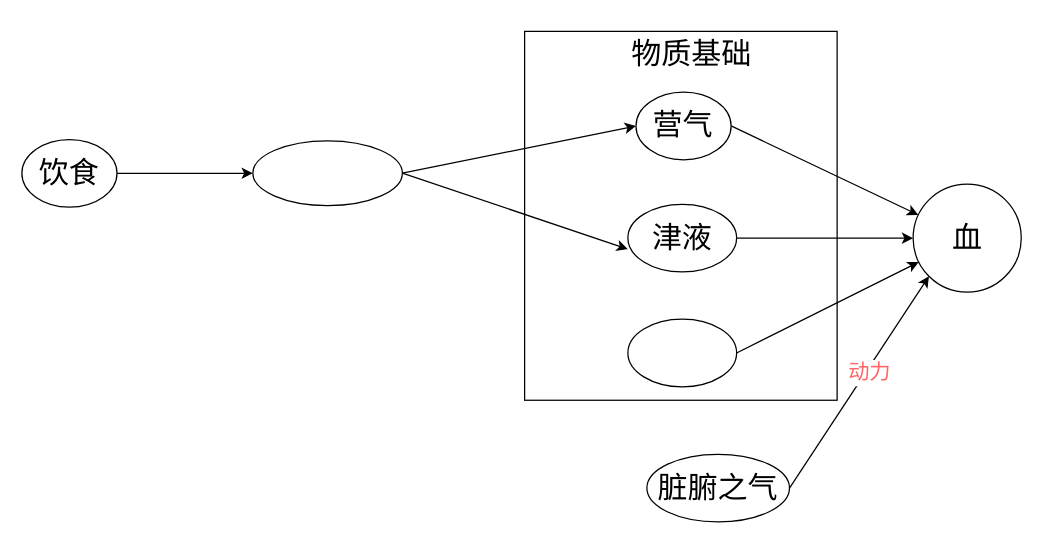
The diagram is 1044 pixels wide and 544 high, and some of its shapes have lost their labels. Here are the shapes that lost their labels. From the top down, the centre of each, then its label:
At (327,173): "水谷精微".
At (682,352): "肾精".
